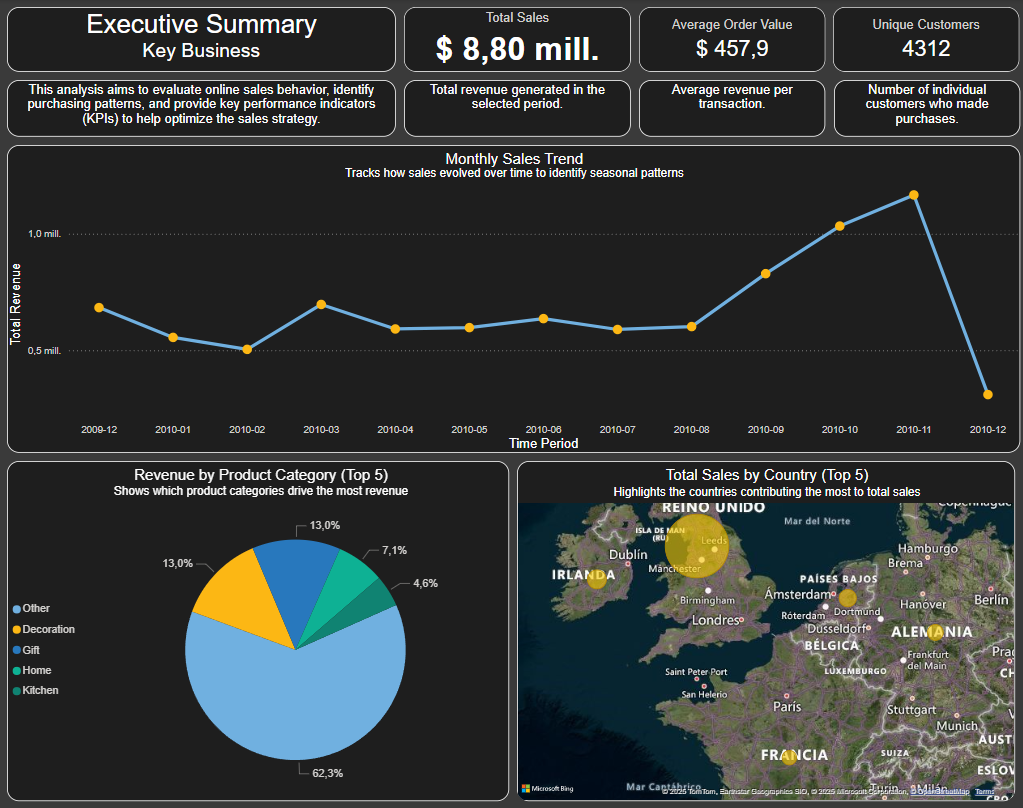

What the dashboard file says about the page in this screenshot:
{"tool":"powerbi","page":{"name":"Executive Summary","canvas":[1270,1000],"ordinal":1},"visuals":[{"type":"lineChart","title":"Monthly Sales Trend","fields":{"Y":["Sum(ecommerce_data cleaned_sales.TotalPrice)"],"Category":["ecommerce_data cleaned_sales.YearMonthText"]},"box":[10.1,180,1250.6,380],"z":0},{"type":"cardVisual","fields":{"Data":["cleaned_sales.Total Sales"]},"box":[500,10.1,280,80],"z":1000},{"type":"textbox","box":[10.1,10.1,480,80],"z":2000},{"type":"cardVisual","fields":{"Data":["ventas_limpias.AOV"]},"box":[790,10.1,230,80],"z":3000},{"type":"cardVisual","fields":{"Data":["ventas_limpias.Unique Customers"]},"box":[1030,10.1,230.4,80],"z":4000},{"type":"map","title":"Total Sales by Country (Top 5)","fields":{"Category":["ventas_limpias.Country"],"Size":["Sum(ventas_limpias.TotalPrice)"]},"box":[640,570,615.2,420.3],"z":5000},{"type":"pieChart","title":"Revenue by Product Category (Top 5)","fields":{"Category":["cleaned_sales.ProductCategory"],"Y":["Sum(cleaned_sales.TotalPrice)"]},"box":[10.1,570,620.3,420.3],"z":6000},{"type":"textbox","box":[10.1,100,480,70],"z":7000},{"type":"textbox","box":[500,100,280,70],"z":8000},{"type":"textbox","box":[790,100,230,70],"z":9000},{"type":"textbox","box":[1030.4,100,230,70],"z":10000}]}

Visuals, with their boxes in screenshot pixels (x1, y1, x2, y2), scaled from the page's 1270x1000 canvas onto the 1023x808 screenshot:
"Monthly Sales Trend" lineChart: Rect(8, 145, 1016, 452)
cardVisual - cleaned_sales.Total Sales: Rect(403, 8, 628, 73)
textbox: Rect(8, 8, 395, 73)
cardVisual - ventas_limpias.AOV: Rect(636, 8, 822, 73)
cardVisual - ventas_limpias.Unique Customers: Rect(830, 8, 1015, 73)
"Total Sales by Country (Top 5)" map: Rect(516, 461, 1011, 800)
"Revenue by Product Category (Top 5)" pieChart: Rect(8, 461, 508, 800)
textbox: Rect(8, 81, 395, 137)
textbox: Rect(403, 81, 628, 137)
textbox: Rect(636, 81, 822, 137)
textbox: Rect(830, 81, 1015, 137)
